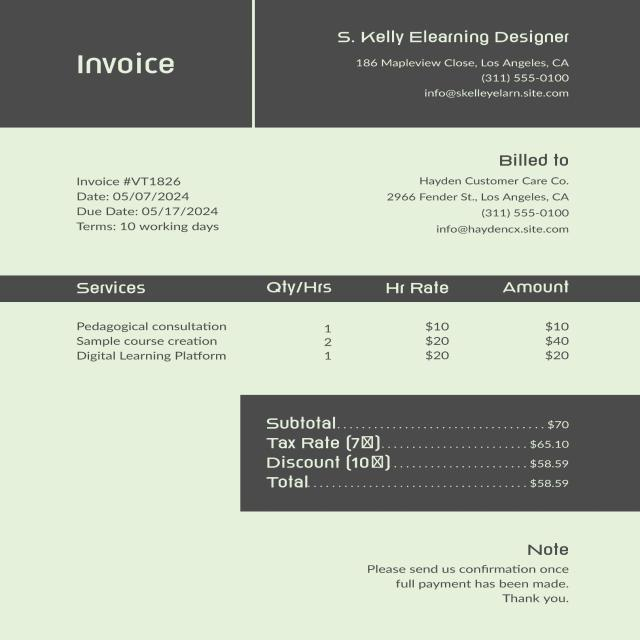paragraph: (240, 390, 626, 526), (324, 6, 602, 110), (364, 149, 596, 242), (349, 537, 598, 617), (43, 32, 215, 103), (60, 171, 228, 188), (65, 220, 233, 235), (64, 205, 232, 218), (62, 190, 230, 202)
table: (16, 274, 635, 376)
